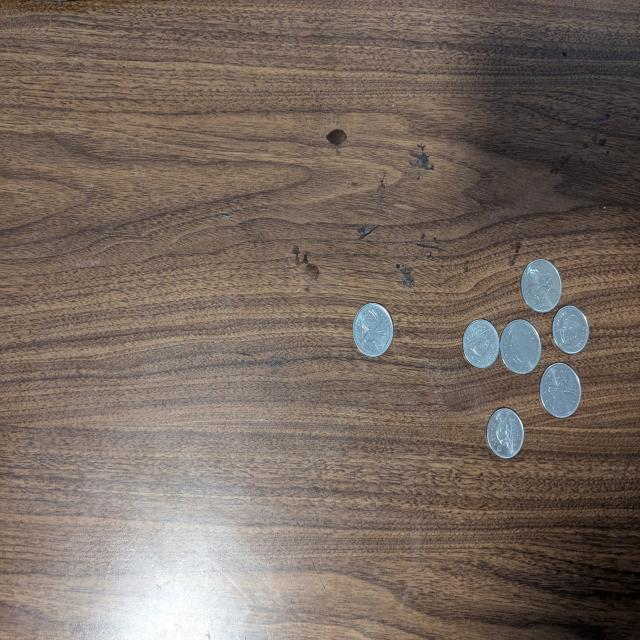nickel: (463, 318, 500, 370), (486, 408, 524, 458), (554, 306, 590, 354)
quarter: (498, 319, 542, 373), (352, 301, 394, 356), (538, 363, 580, 418), (521, 259, 562, 313)
